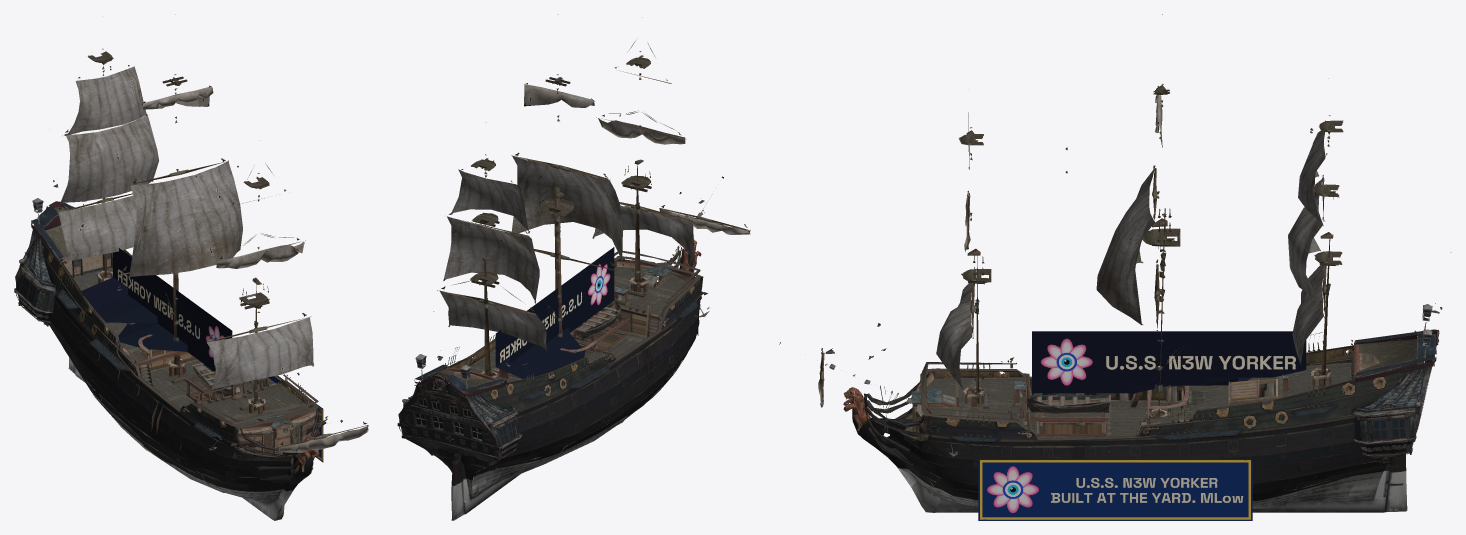
Rendered from nyb_ontown_ship.glb.
3 renders of one model, left to right at view 1: azimuth 30°, elevation 25°; view 2: azimuth 150°, elevation 25°; view 3: azimuth 270°, elevation 25°, orthographic. The views are drawn at different scales.
Visible parts, largest first — view 1: ship_pinnace_aft, stk_lbl_241ab64a54.png; view 2: ship_pinnace_aft, stk_lbl_241ab64a54.png; view 3: ship_pinnace_aft, add_lbl_ca27ea9911.png, stk_lbl_241ab64a54.png.
Boxes of the visible parts, x1,y1,x2,y2 form: ship_pinnace_aft: (14, 14, 368, 520); stk_lbl_241ab64a54.png: (81, 248, 232, 371); ship_pinnace_aft: (397, 14, 750, 520); stk_lbl_241ab64a54.png: (495, 247, 614, 378); ship_pinnace_aft: (779, 14, 1451, 512); add_lbl_ca27ea9911.png: (978, 459, 1252, 520); stk_lbl_241ab64a54.png: (1032, 331, 1306, 393).
Bounding box in the file's own units: 10.1 × 32.43 × 39.75.
Materials: 9 (9 with a texture image).
